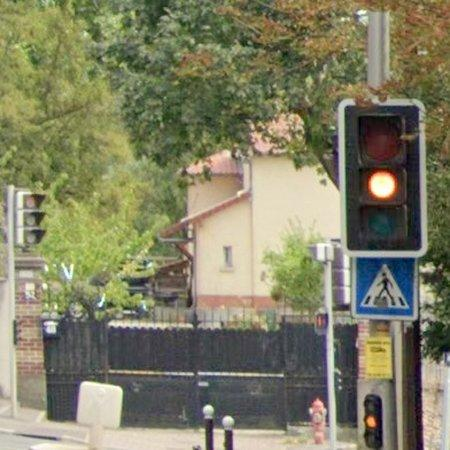traffic lights: (339, 100, 428, 320)
